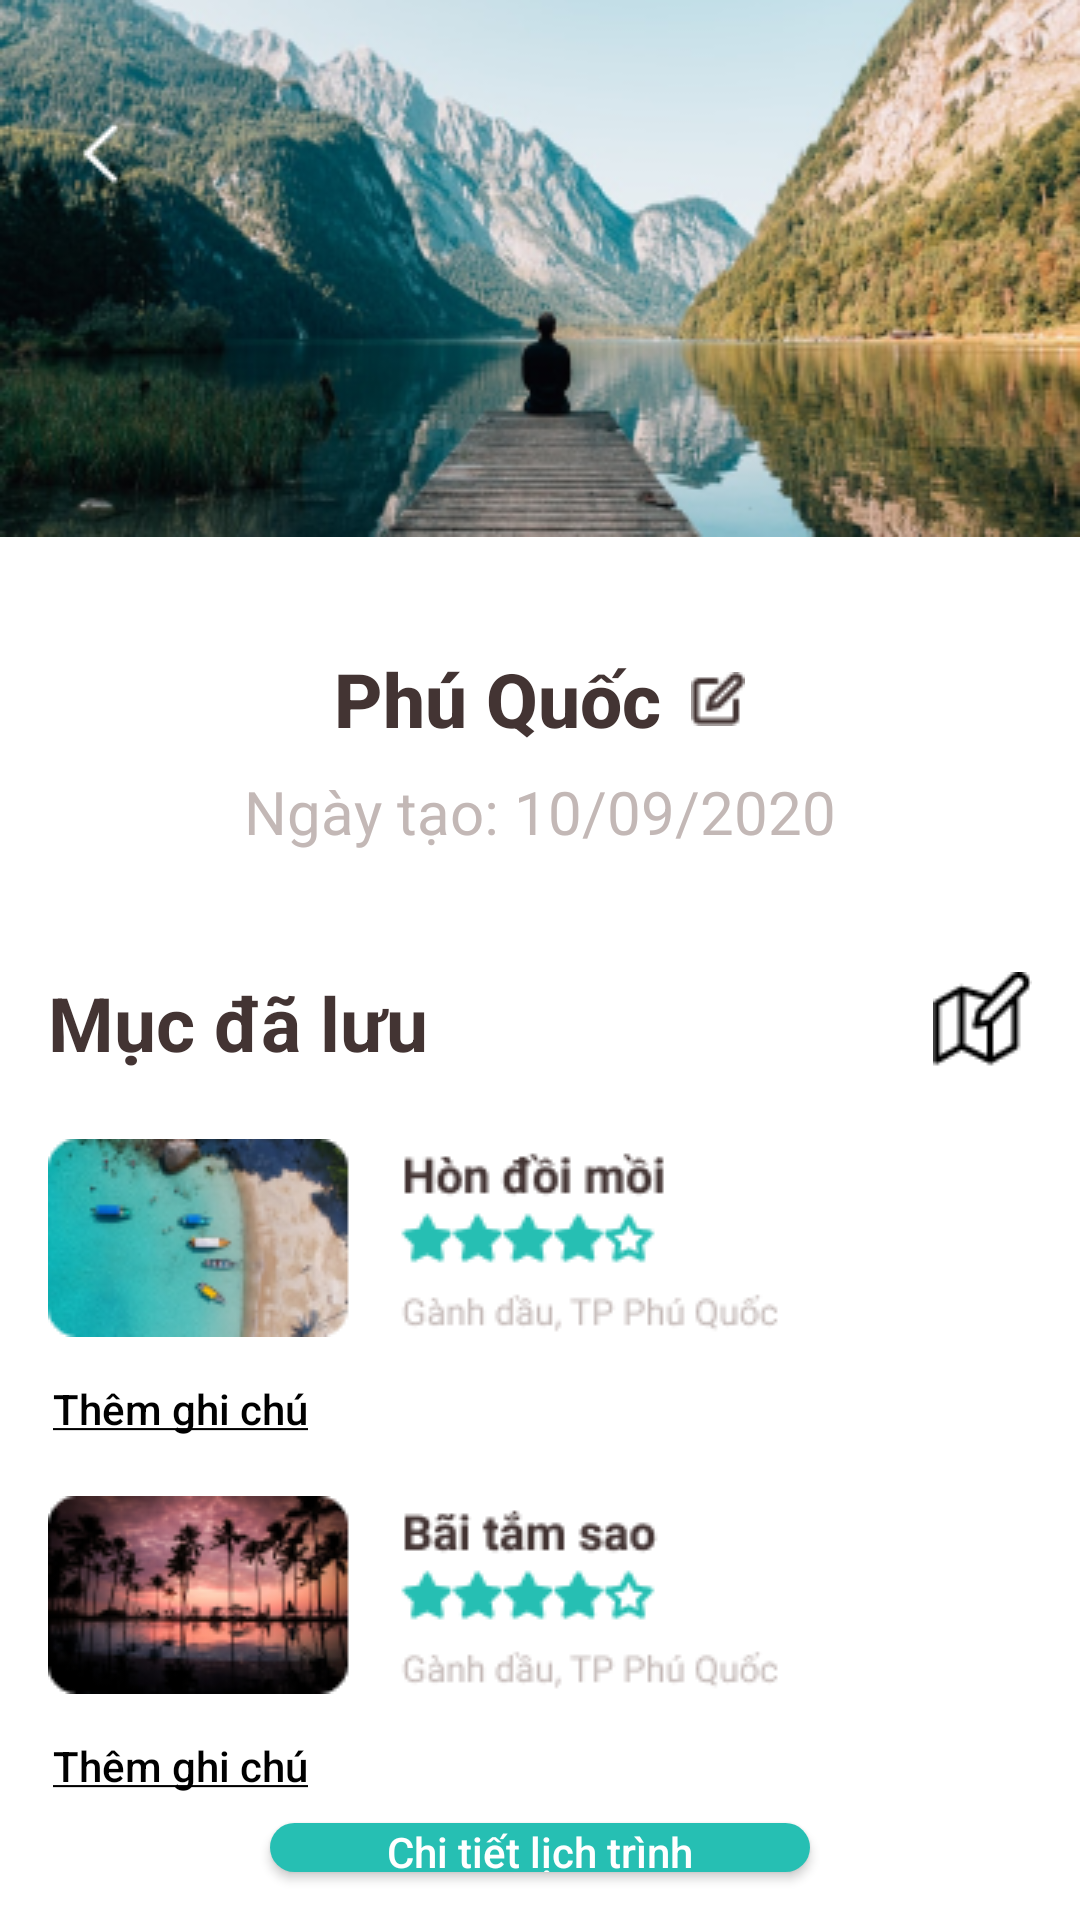

Icons on this 1080x1920 Android screen, each with the point to tap as (x=x, y=y):
back: (x=96, y=151)
edit map: (x=982, y=1019)
